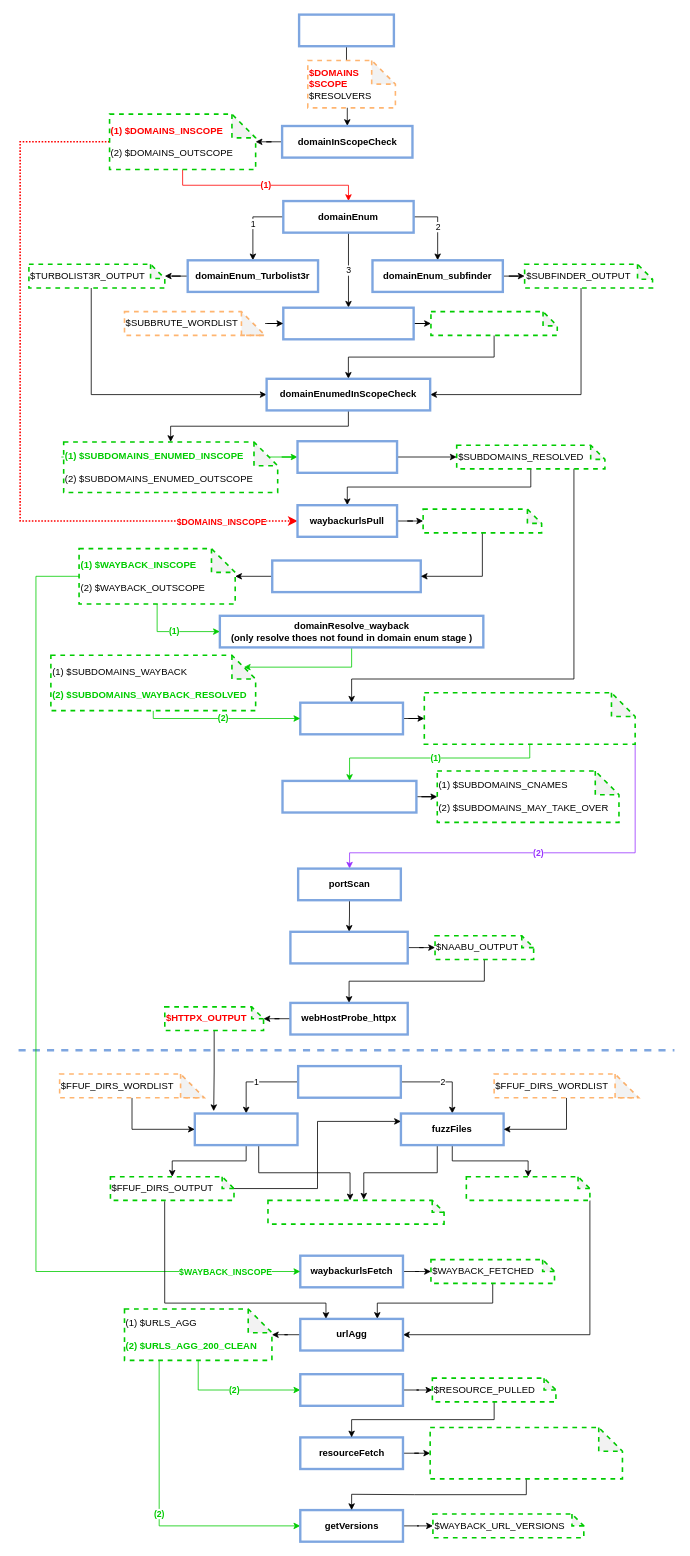
Image size: 690x1556. Some labels were removed from this diagram. The shapes that lost their labels are listed below. From the top down, each one's box as (x1, y1, x2, y2) in pixels, then its label:
(298, 13, 395, 47): preCheck
(282, 306, 414, 340): domainBruteforceListBuild
(430, 310, 558, 336): $SUBBRUTE_OUTPUT
(296, 440, 398, 474): domainResolve
(422, 508, 542, 533): $WAYBACK_OUTPUT
(271, 559, 422, 593): waybackurlsInScopeCheck
(299, 701, 404, 735): subdomainAgg
(423, 692, 636, 745): (1) $SUBDOMAINS_RESOLVED_AGG (2) $SUBDOMAINS_RESOLVED_AGG_CLEAN
(281, 779, 417, 813): domainTakeOverCheck
(289, 930, 409, 964): portScan_naabu
(297, 1065, 402, 1098): fuzz
(193, 1112, 298, 1146): fuzzDirs
(465, 1176, 590, 1201): $FFUF_FILES_OUTPUT
(267, 1199, 444, 1224): $URLS_MANUAL_FUZZ_REQUIRED
(299, 1373, 404, 1407): pullResource
(429, 1426, 623, 1479): (1) $RESOURCE_FETCHED (2) $ RESOURCE_FETCHED_200_CLEAN
